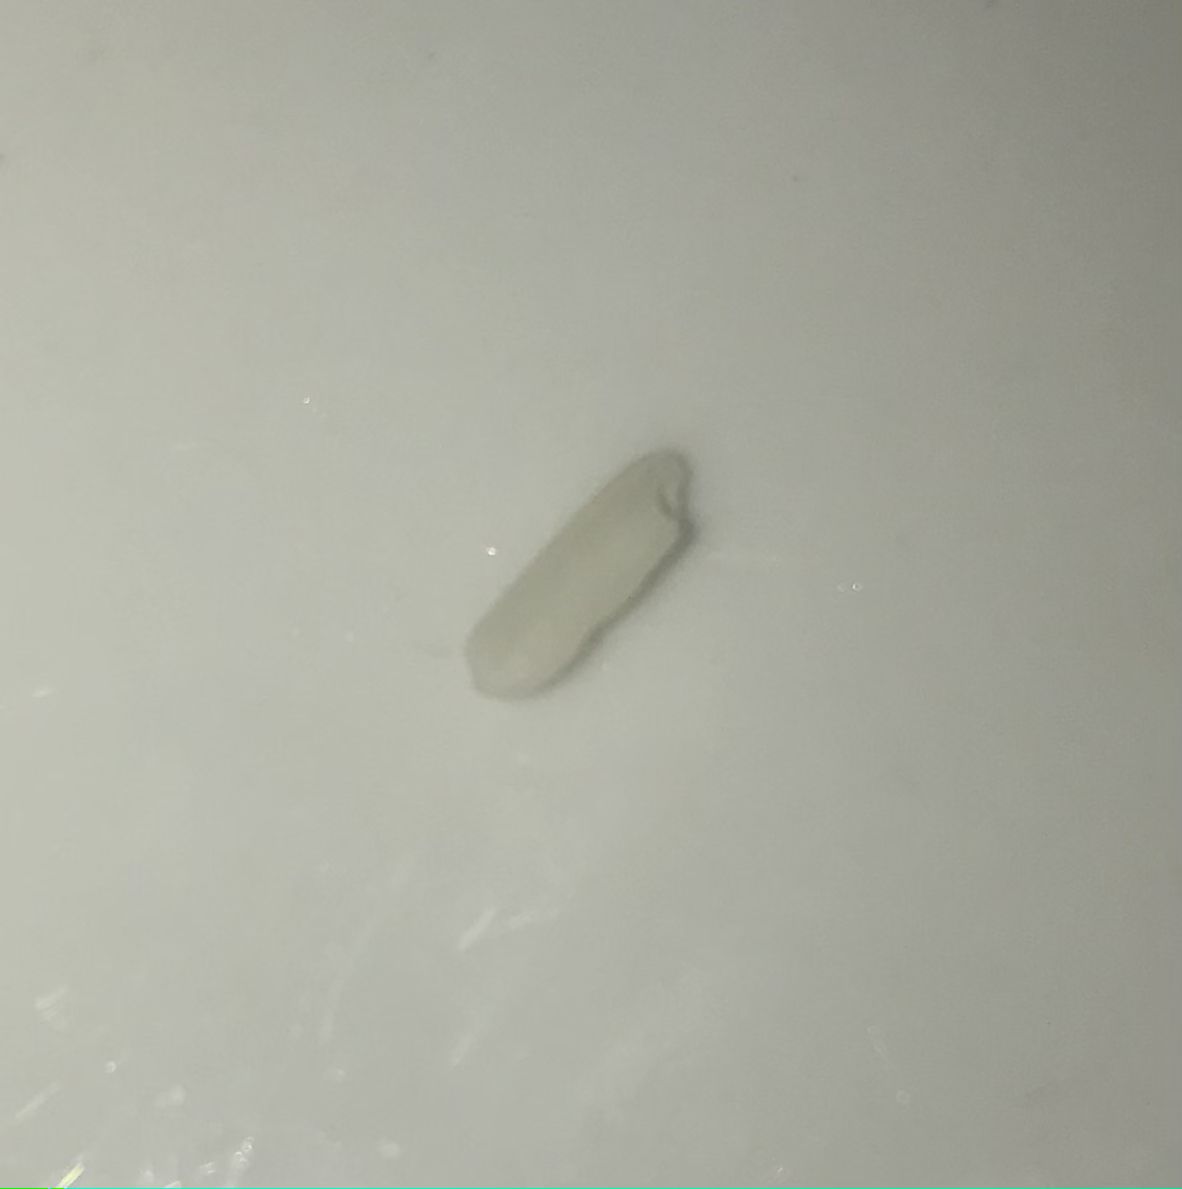Gao Thom Go Cong: (431, 434, 728, 710)
